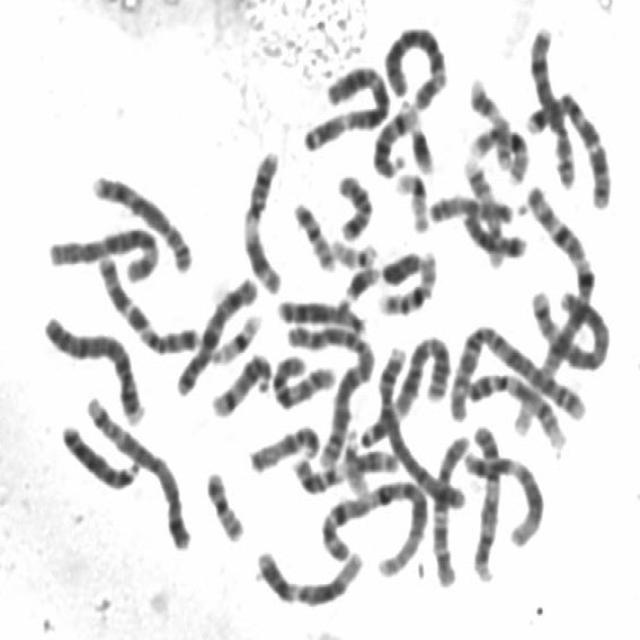A1: (517, 174, 603, 373), (315, 469, 434, 580)
A2: (444, 316, 588, 430), (279, 312, 380, 470)
A3: (355, 326, 454, 449), (298, 53, 394, 154)
B4: (372, 336, 469, 512), (38, 304, 151, 428)
B5: (80, 383, 196, 553), (526, 278, 614, 373)
C10: (427, 423, 476, 590), (266, 344, 341, 410)
C11: (238, 140, 288, 296), (287, 438, 403, 495)
C12: (458, 440, 548, 550), (249, 537, 367, 610)
C6: (43, 217, 164, 284), (379, 15, 453, 110)
C7: (91, 244, 205, 356), (520, 79, 616, 211)
C8: (85, 164, 197, 274), (523, 14, 580, 190)
C9: (462, 360, 572, 449), (466, 414, 506, 586)
D13: (55, 413, 143, 491), (272, 288, 370, 336)
D14: (205, 342, 276, 419), (368, 90, 422, 180)
D15: (244, 413, 326, 475), (424, 184, 525, 226)
E16: (373, 238, 443, 317), (464, 116, 533, 185)
E17: (458, 149, 512, 267), (464, 66, 521, 175)
E18: (456, 204, 531, 258), (332, 164, 378, 242)
F19: (207, 301, 267, 366), (390, 162, 433, 234)
F20: (288, 190, 340, 272), (201, 459, 250, 544)
G21: (337, 254, 384, 304), (404, 113, 440, 175)
G22: (338, 420, 373, 498), (326, 230, 382, 268)
X: (169, 265, 263, 399)
Y: (378, 240, 430, 287)
